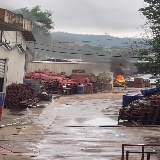fire: (117, 75, 127, 82)
